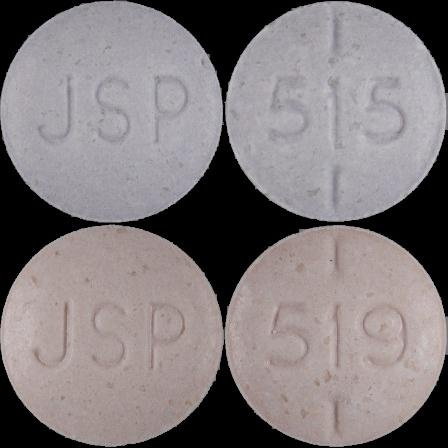50436-5505: (0, 0, 224, 224)
